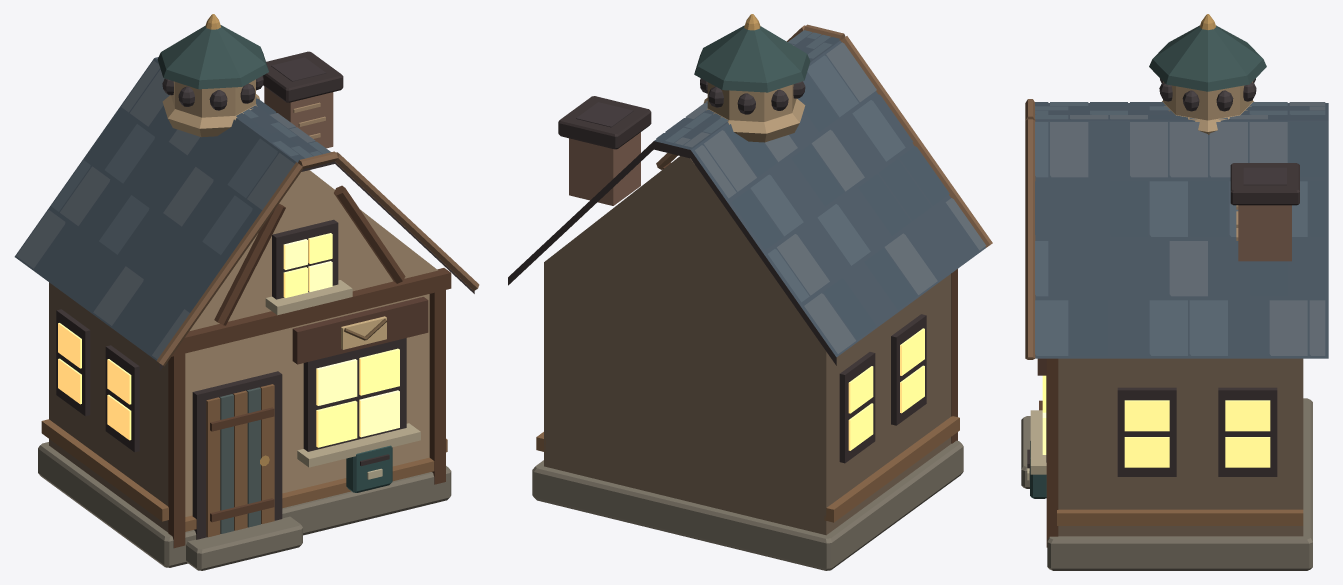
File: post_house.glb
3 renders of one model, left to right at view 1: azimuth 30°, elevation 25°; view 2: azimuth 150°, elevation 25°; view 3: azimuth 270°, elevation 25°, orthographic. The views are drawn at different scales.
Visible parts, largest first — view 1: Masonry and joinery; view 2: Masonry and joinery; view 3: Masonry and joinery.
Boxes of the visible parts, x1,y1,x2,y2 form: Masonry and joinery: (14,14,479,570); Masonry and joinery: (508,14,992,570); Masonry and joinery: (1021,14,1328,570).
Size of the model in its own units: 2.18 by 3.03 by 1.77.
